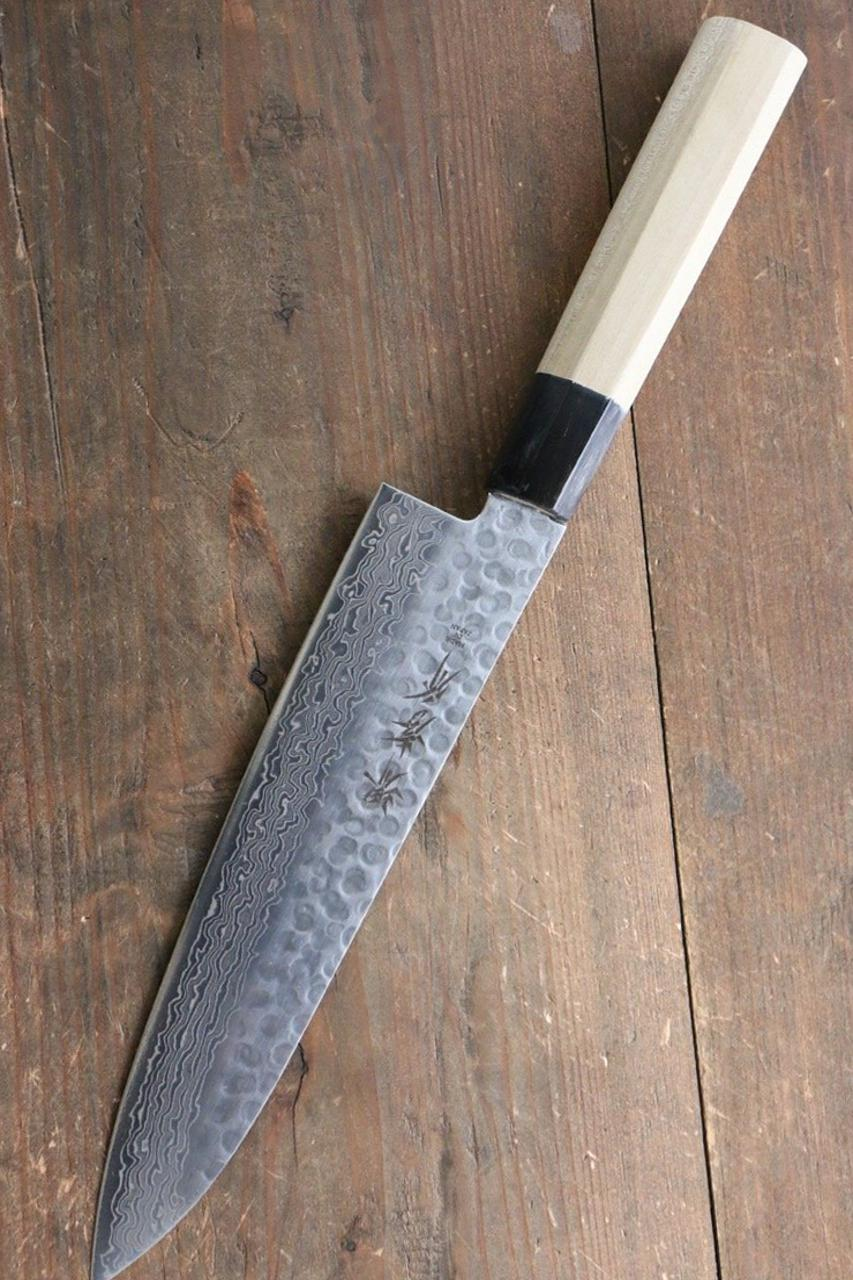knife: (97, 15, 808, 1280)
